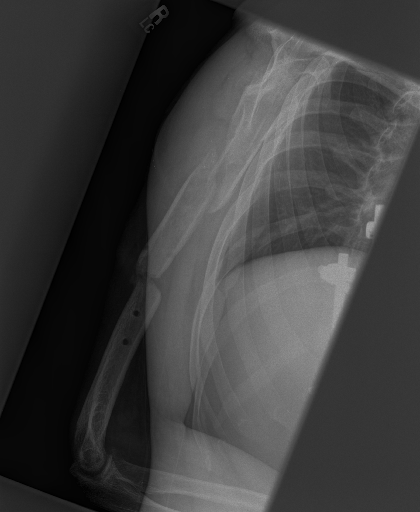fracture: (119, 240, 176, 320), (191, 129, 237, 214)
